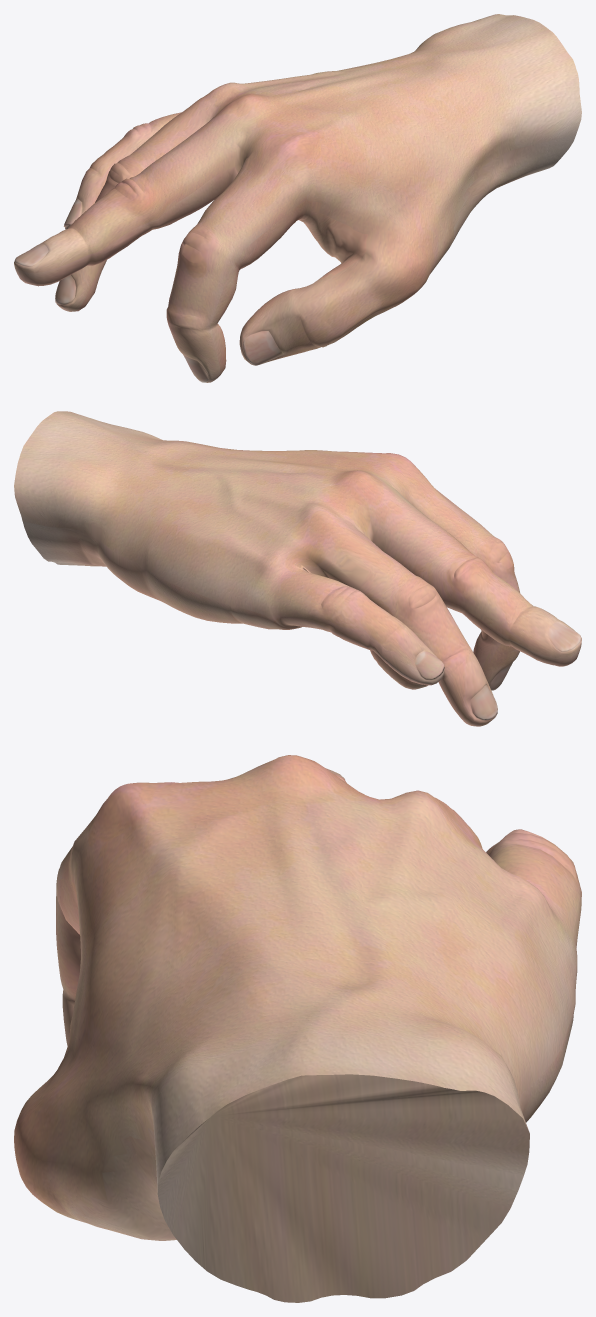
The model's file is hand_18.obj.
The picture shows the model from 3 angles, top to bottom: view 1: azimuth 30°, elevation 25°; view 2: azimuth 150°, elevation 25°; view 3: azimuth 270°, elevation 25°; orthographic projection. The views are drawn at different scales.
Parts seen in each view (by area): view 1: Figure_2; view 2: Figure_2; view 3: Figure_2.
Boxes of the visible parts, x1=… form: Figure_2: x1=14, y1=14, x2=581, y2=382; Figure_2: x1=14, y1=411, x2=581, y2=726; Figure_2: x1=14, y1=755, x2=581, y2=1302.
Size of the model in its own units: 0.8808 by 0.372 by 0.4118.
2 materials, 2 textured.
